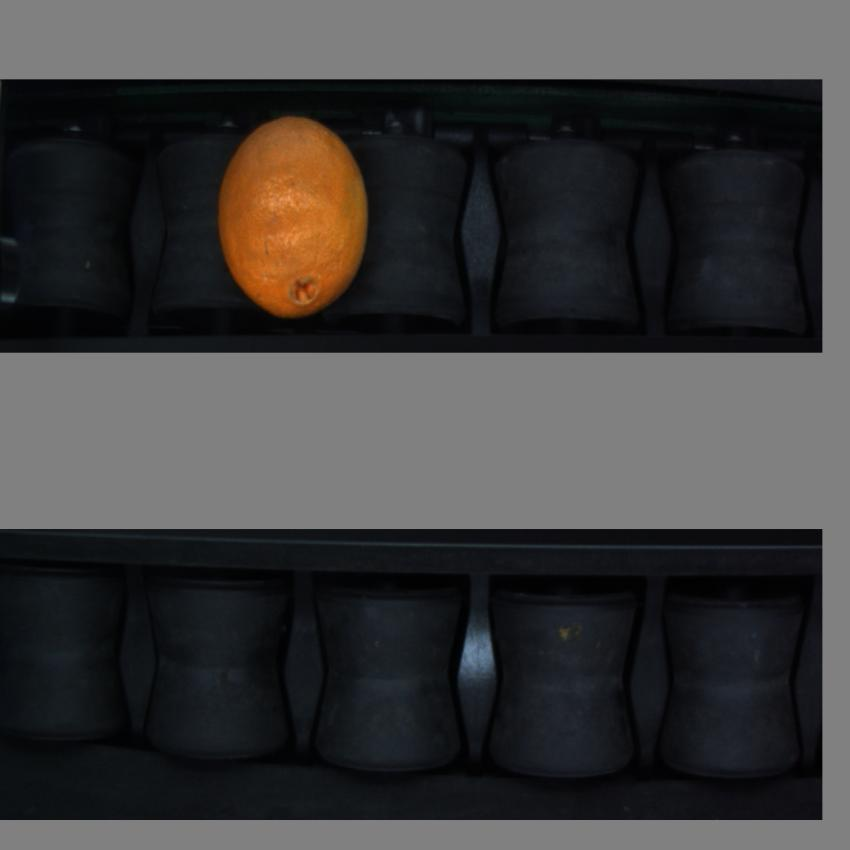Buen estado: (211, 94, 378, 322)
